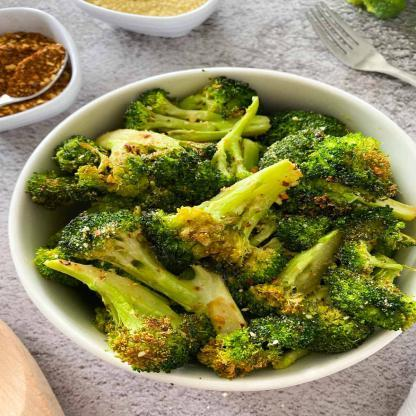broccoli: (25, 72, 416, 382)
